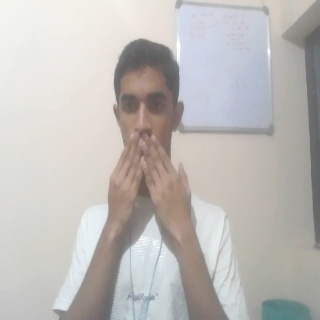Thank You: (100, 131, 202, 249)
